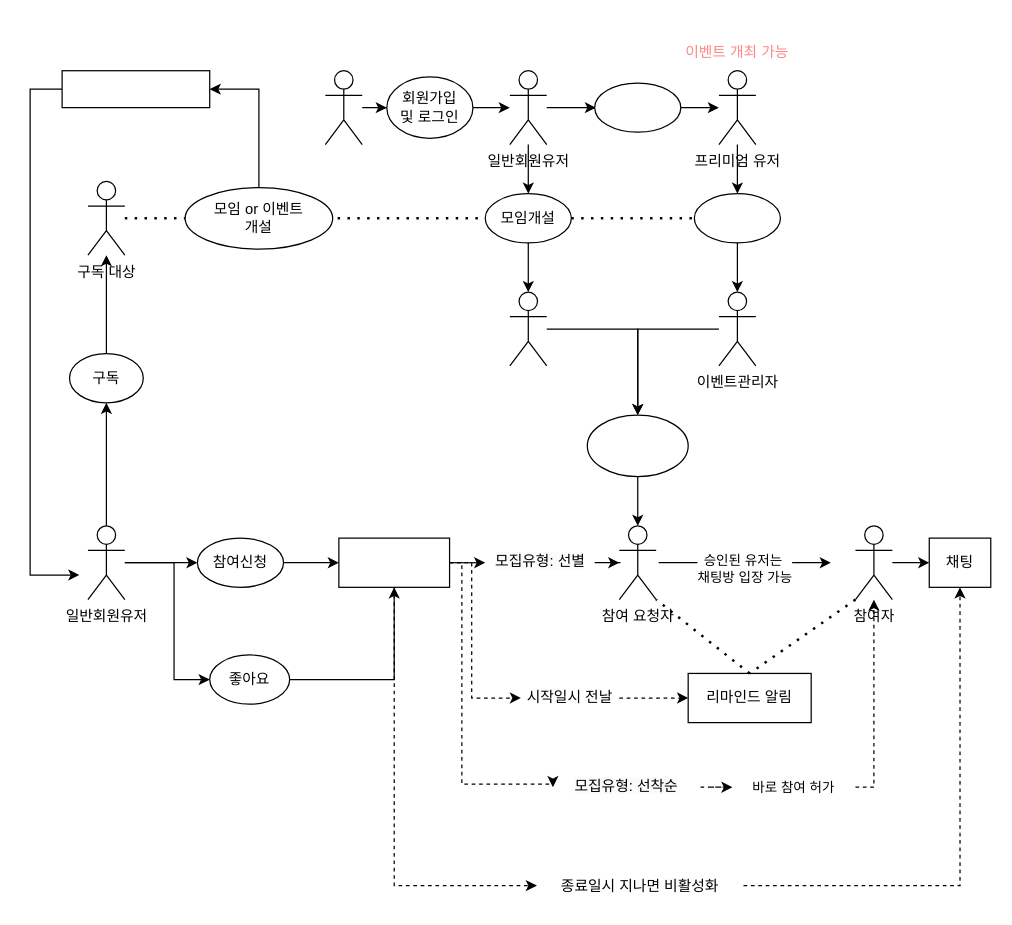
Some shapes in this 1012 by 925 pixel diagram are drawn without their labels. The shapes that lost their labels are listed below. From the top down, each one's centre as x and y in pixels, then its label:
At (x=135, y=88): "업데이트 알림".
At (x=343, y=107): "비회원유저".
At (x=637, y=107): "결제".
At (x=736, y=217): "이벤트개설".
At (x=528, y=328): "모임관리자".
At (x=637, y=445): "참여자 관리 승인/거절".
At (x=394, y=562): "모임 및 이벤트".
